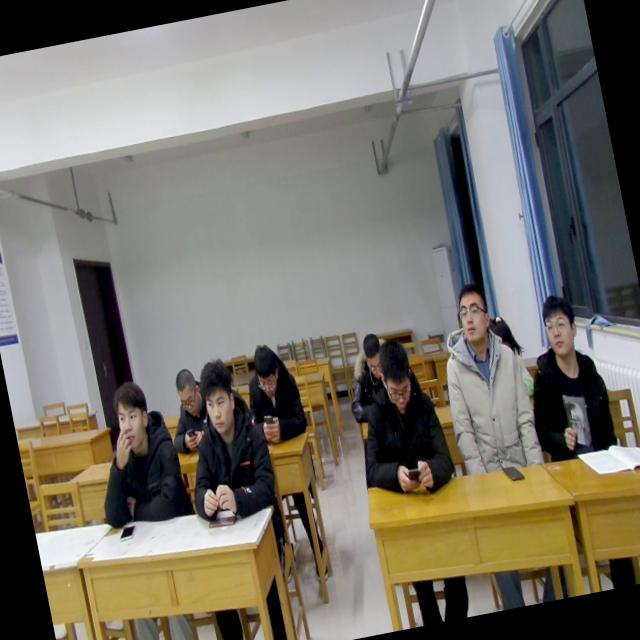bow: (336, 324, 400, 424), (158, 362, 220, 456)
down: (370, 334, 419, 416), (244, 338, 286, 402), (168, 364, 205, 420), (355, 325, 391, 381)
lookup: (190, 354, 245, 442), (532, 288, 584, 363), (106, 380, 158, 454), (448, 281, 496, 353)
sit: (426, 275, 546, 483), (340, 330, 459, 511), (166, 356, 284, 530), (512, 289, 620, 465), (78, 374, 195, 535), (237, 336, 310, 444)
